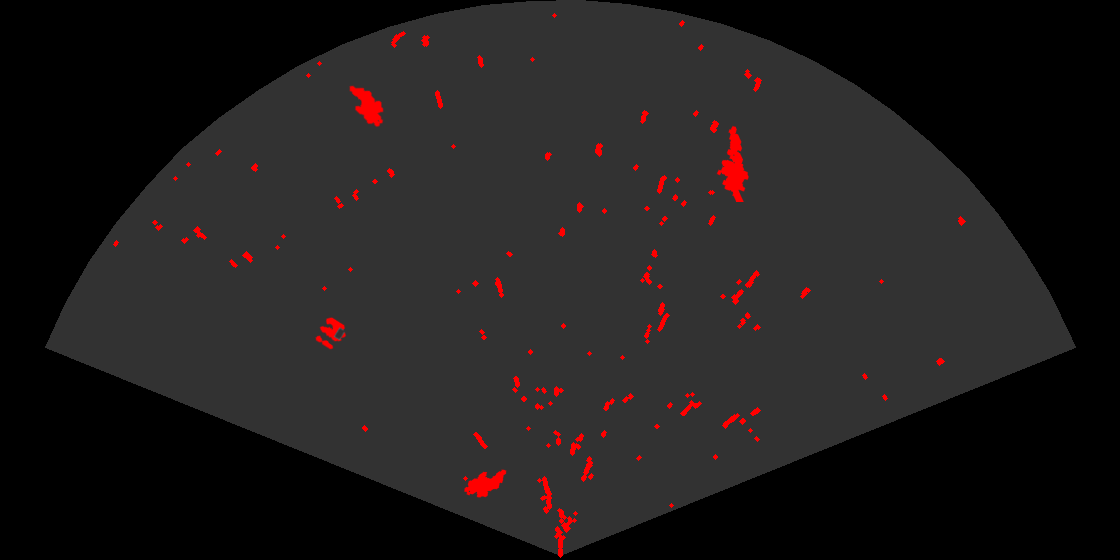AUV: (348, 84, 385, 129), (463, 468, 508, 499)
ball: (314, 316, 348, 351)
frogman: (715, 125, 750, 202)
